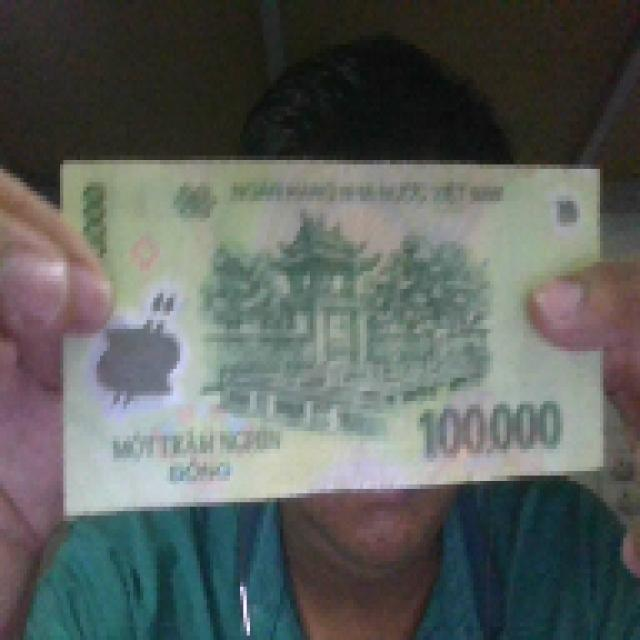100 000 VND: (54, 151, 610, 520)
